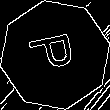P_E: (26, 31, 84, 79)
